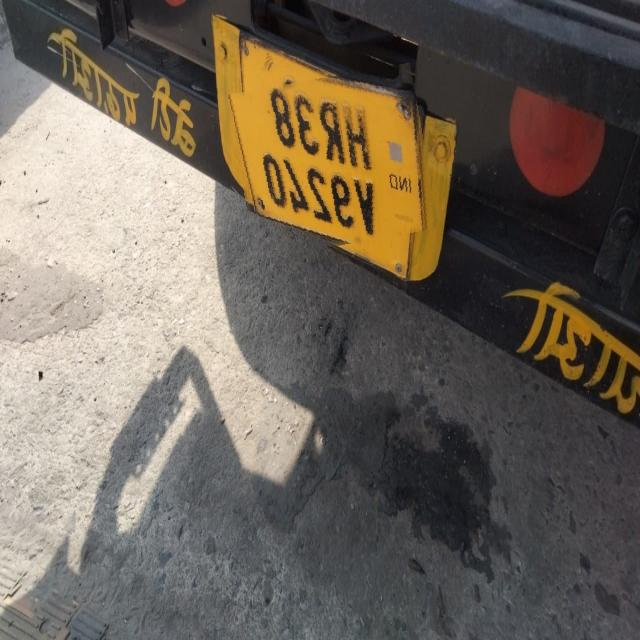License-plate: (233, 71, 432, 253)
